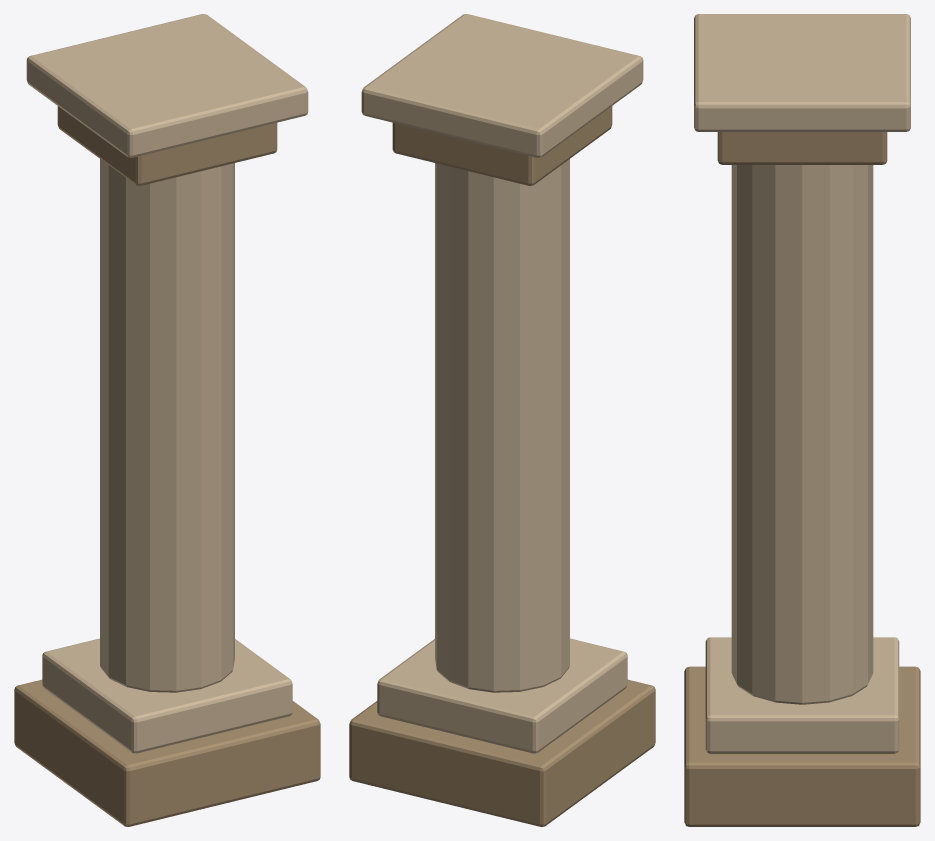
The model's file is SM_KurhausSaeule.glb.
The picture shows the model from 3 angles, left to right: view 1: azimuth 30°, elevation 25°; view 2: azimuth 150°, elevation 25°; view 3: azimuth 270°, elevation 25°; orthographic projection. The views are drawn at different scales.
Parts seen in each view (by area): view 1: SM_KurhausSaeule; view 2: SM_KurhausSaeule; view 3: SM_KurhausSaeule.
Boxes of the visible parts, x1=… form: SM_KurhausSaeule: x1=14, y1=14, x2=320, y2=826; SM_KurhausSaeule: x1=349, y1=14, x2=655, y2=826; SM_KurhausSaeule: x1=684, y1=14, x2=920, y2=826.
Size of what is drawn, in the model's own units: 1 by 3.37 by 1.
